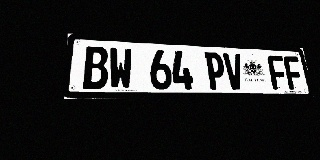4: (171, 50, 194, 90)
6: (149, 49, 172, 90)
B: (83, 46, 108, 89)
F: (267, 55, 289, 90), (283, 56, 305, 90)
P: (204, 52, 227, 90)
V: (223, 53, 245, 90)
W: (109, 47, 133, 89)
